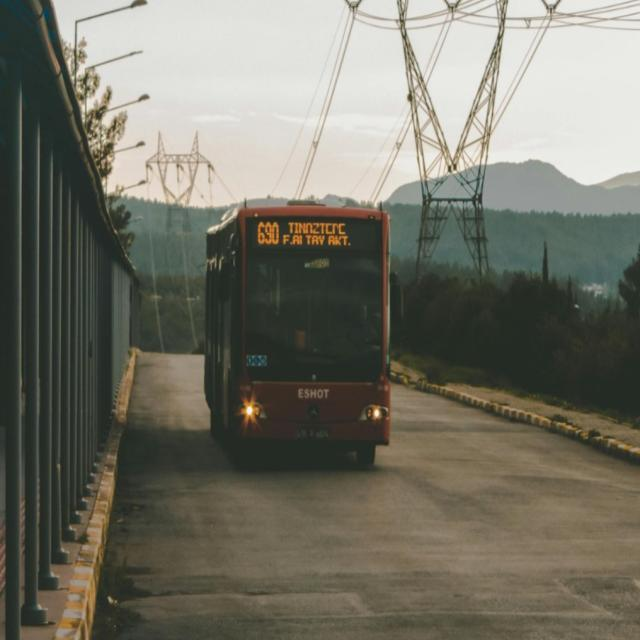bus: (203, 200, 392, 464)
